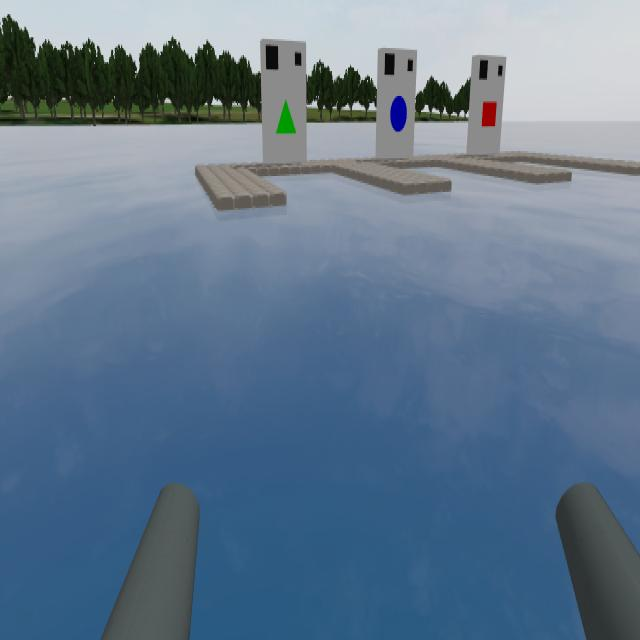dock: (263, 40, 305, 164), (376, 50, 416, 159), (472, 55, 508, 165)
